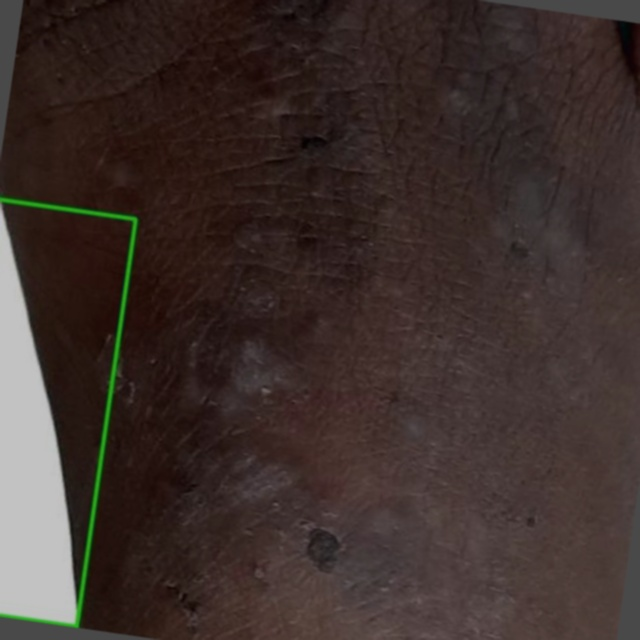Contact Dermatitis: (0, 199, 135, 627)
